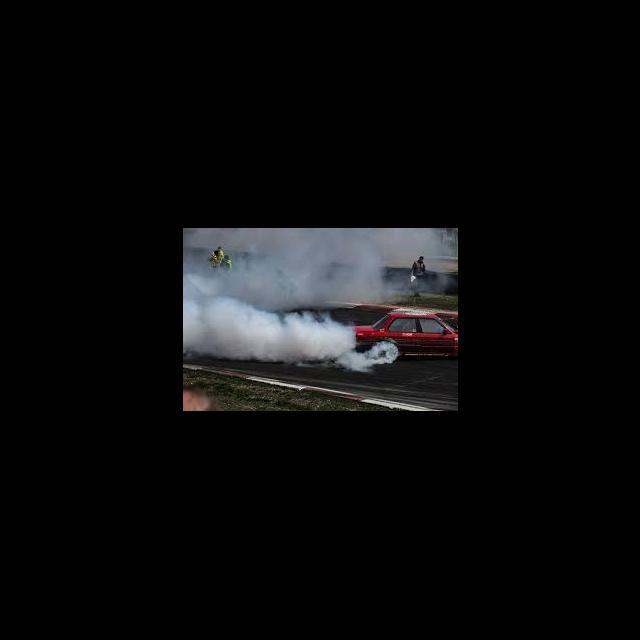Smoke: (183, 229, 447, 371)
